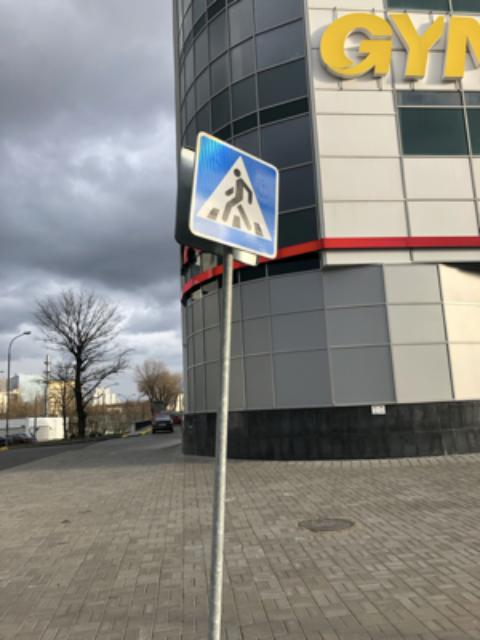crosswalk-sign: (187, 130, 281, 261)
